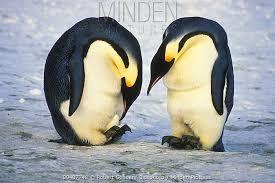emporer: (42, 10, 153, 157), (146, 11, 239, 153)
